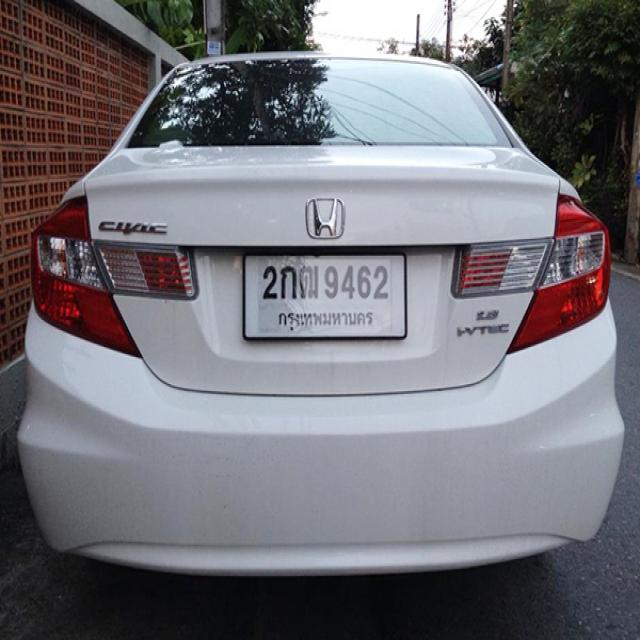license_plate: (243, 250, 408, 341)
